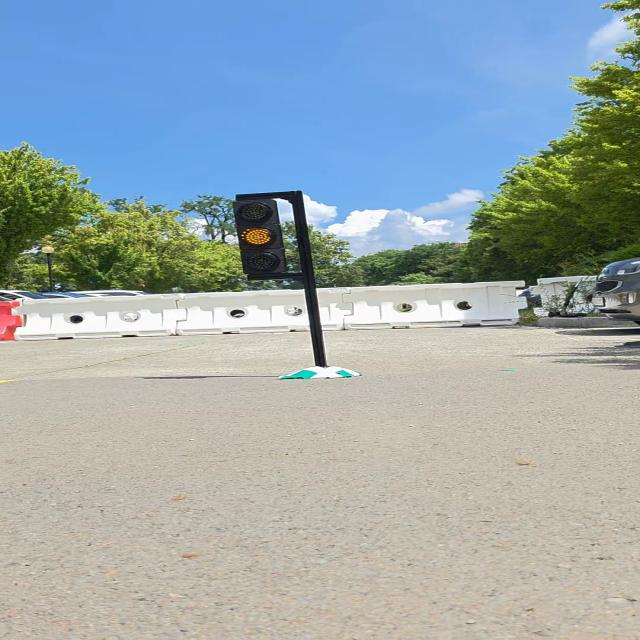yellow: (232, 200, 288, 275)
